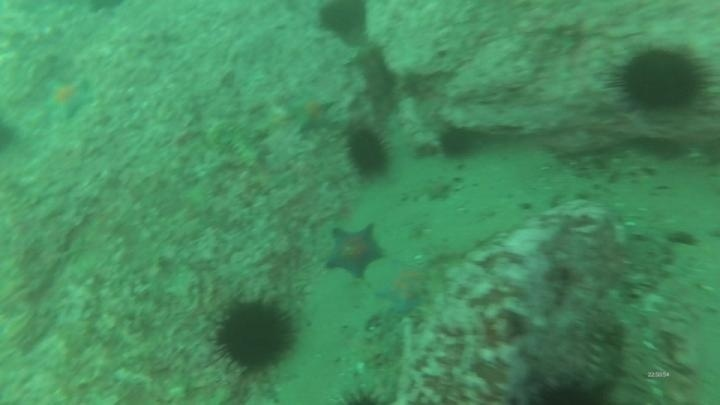echinus: (610, 43, 712, 116), (211, 294, 299, 377), (523, 369, 615, 405), (344, 126, 393, 180), (316, 1, 370, 41), (436, 124, 478, 161)
holothurian: (578, 308, 628, 393), (208, 117, 263, 169)
starfish: (322, 222, 387, 282), (373, 260, 432, 316), (39, 75, 95, 123), (284, 89, 338, 136)
